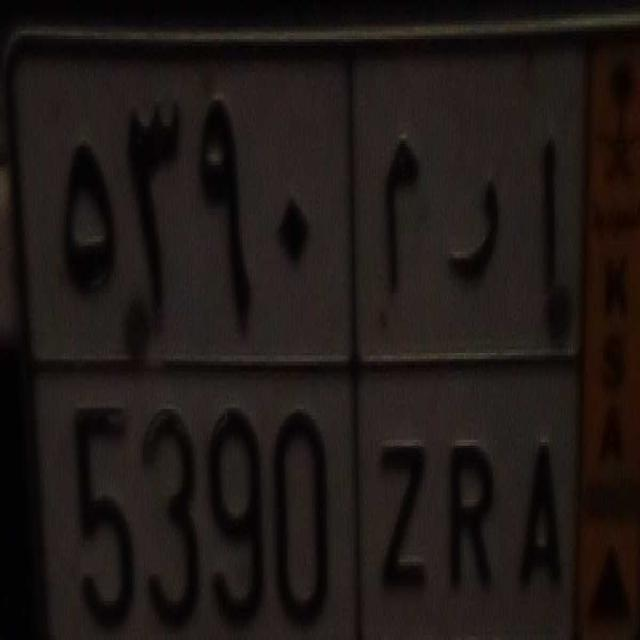license_plate: (28, 354, 578, 640)
